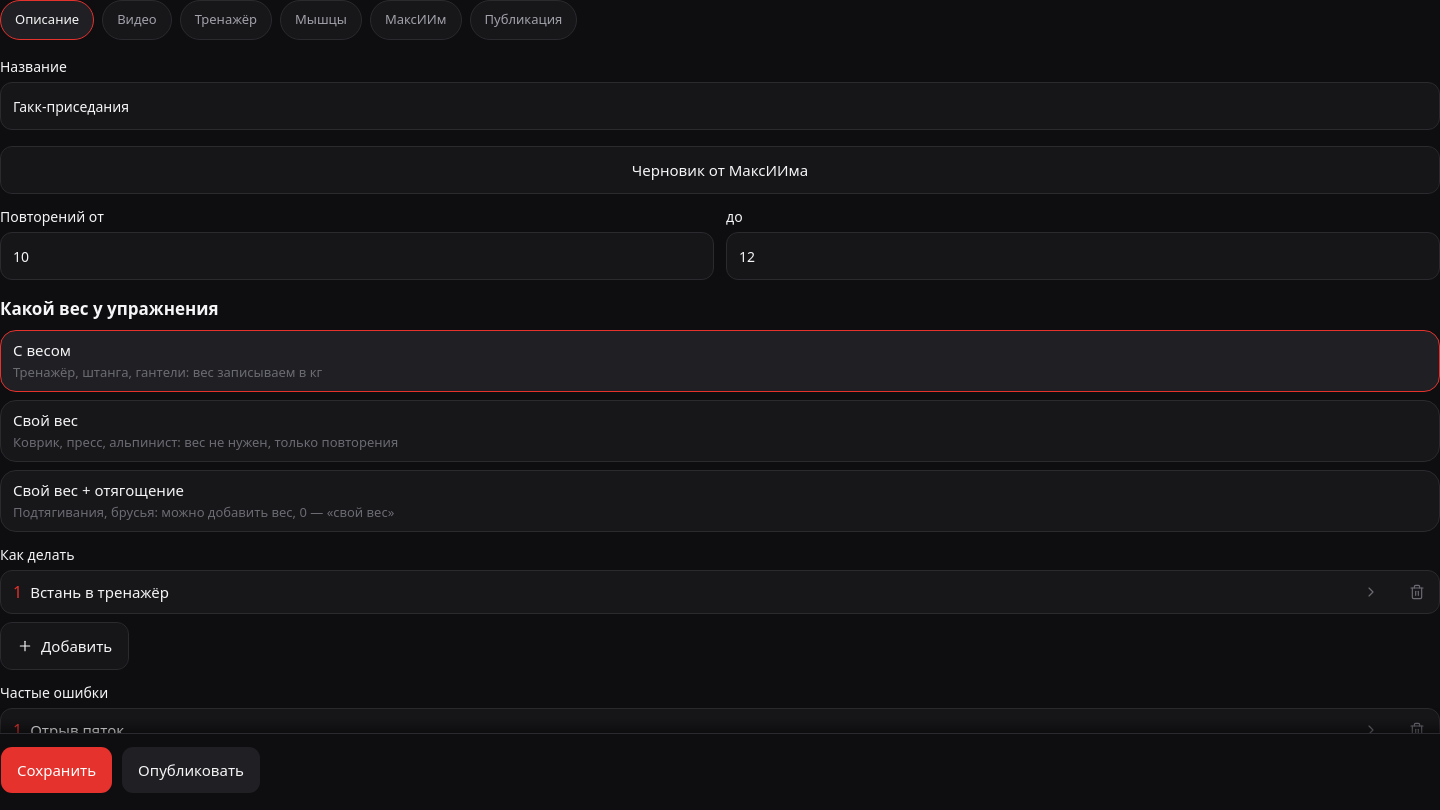
Test: блок удаления упражнения: подтверждение и понятный текст про историю
The image size is (1440, 810).
Click the tab "Публикация" at (523, 20), box [470,0,577,40]
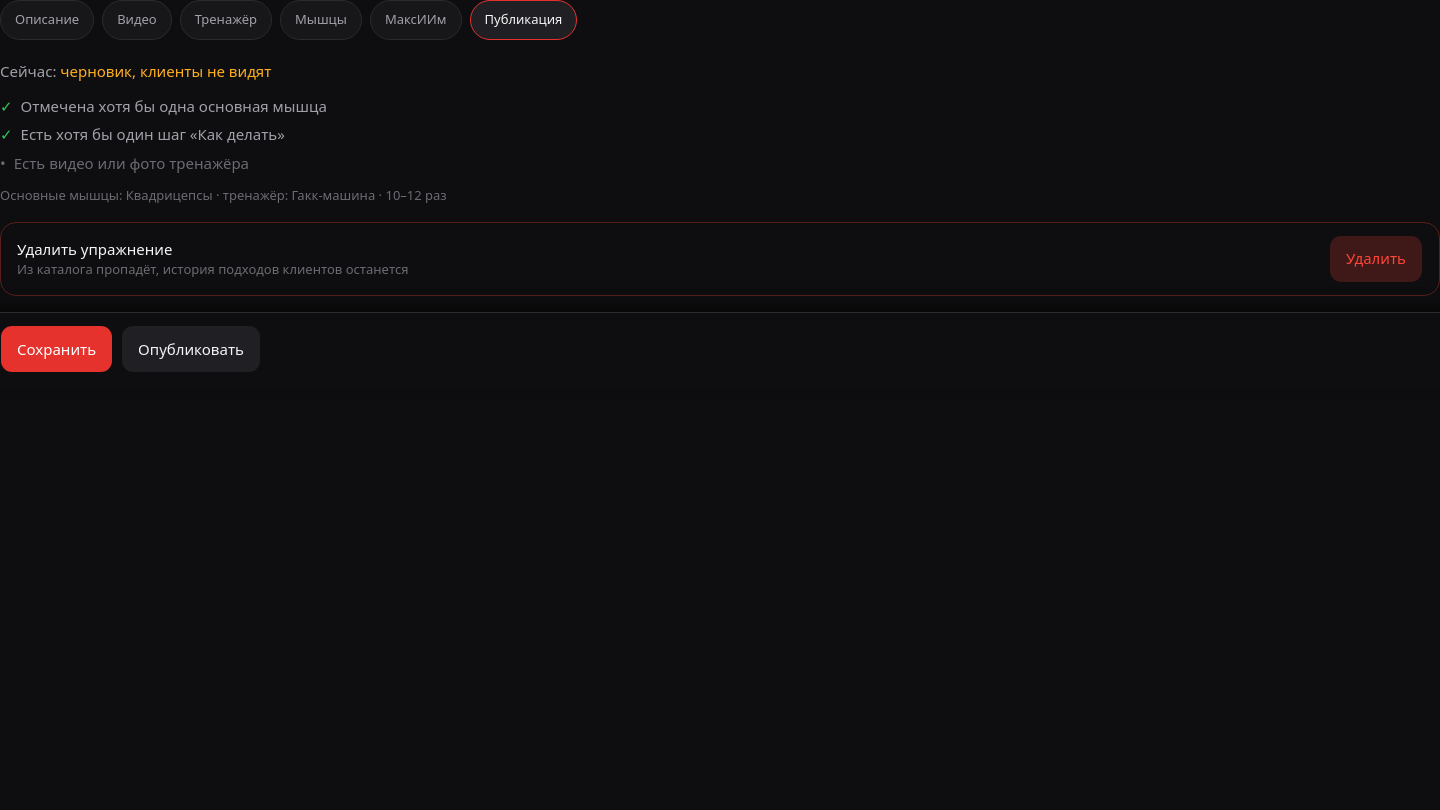
Now the text "Удалить упражнение" is shown, box [17,238,172,258]
Now the text "Из каталога пропадёт, история подходов клиентов останется" is shown, box [17,260,408,278]
Click the button "Удалить" at (1376, 258), box [1329,234,1423,282]
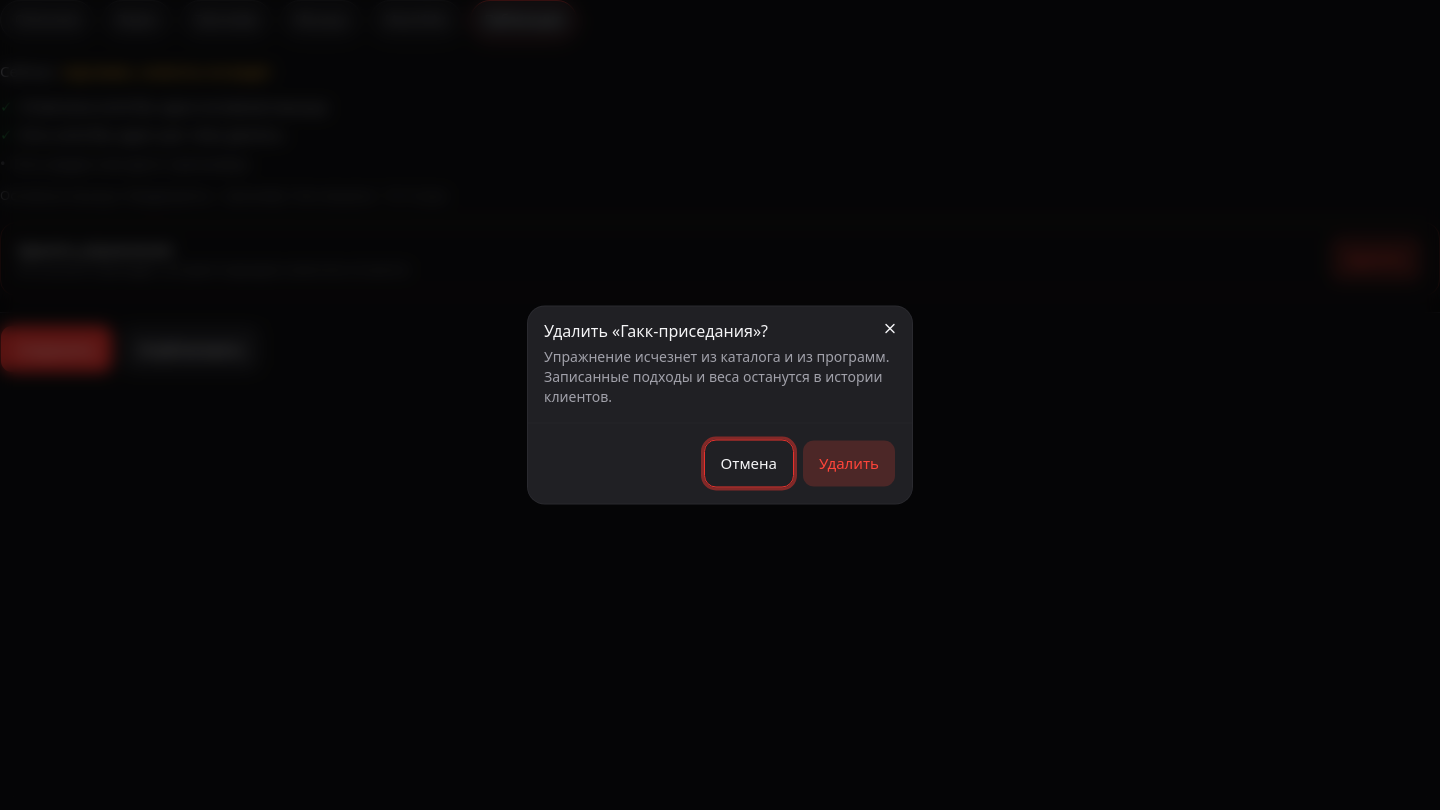
Now the heading "Удалить «Гакк-приседания»?" is shown, box [544,320,768,342]
Now the text "подходы и веса останутся в истории клиентов" is shown, box [544,346,889,406]
Now the button "Отмена" is shown, box [704,440,794,488]
